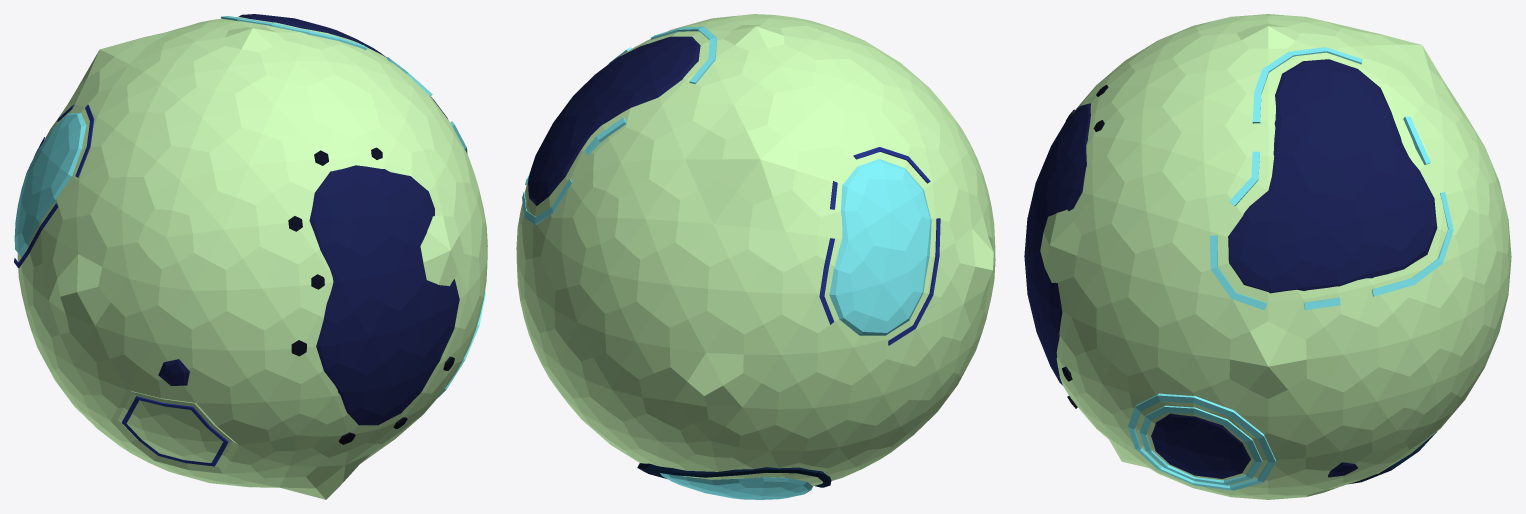
Rendered from star sphere_st3.fbx.
3 renders of one model, left to right at view 1: azimuth 30°, elevation 25°; view 2: azimuth 150°, elevation 25°; view 3: azimuth 270°, elevation 25°, orthographic. The views are drawn at different scales.
Visible parts, largest first — view 1: Sphere; view 2: Sphere; view 3: Sphere.
Boxes of the visible parts, box(x1,y1,x2,y2) form: Sphere: box(14, 14, 487, 499); Sphere: box(516, 14, 995, 499); Sphere: box(1024, 14, 1511, 499).
Bounding box in the file's own units: 206 × 203 × 196.
